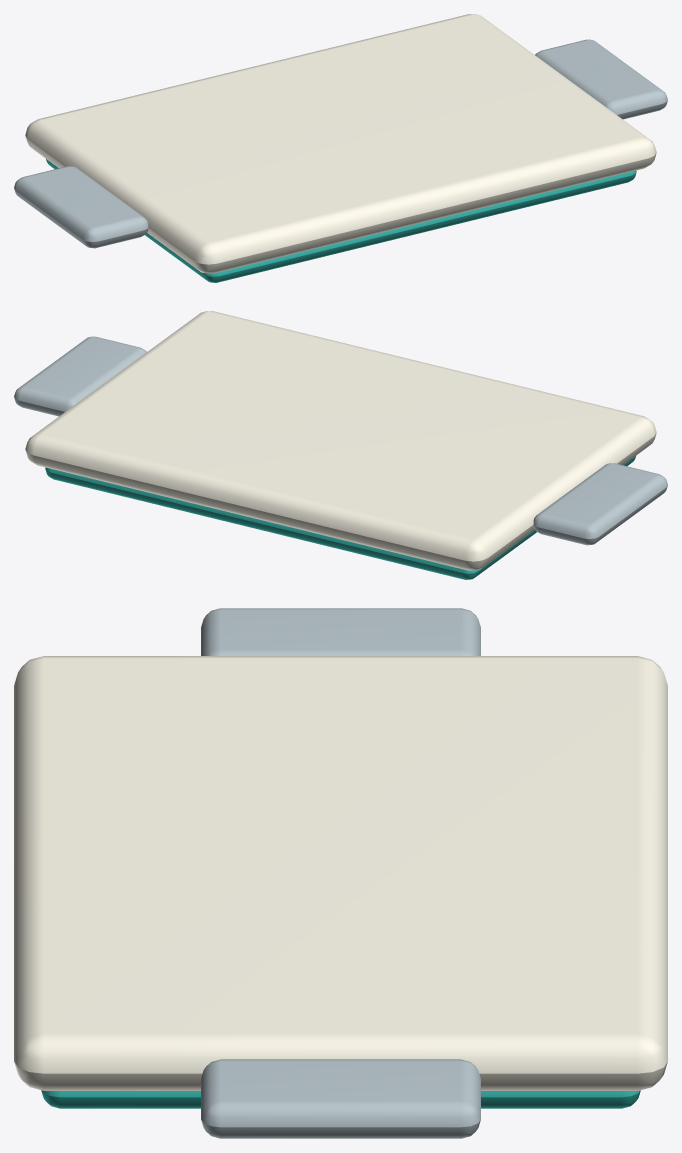
Rendered from tray.glb.
The picture shows the model from 3 angles, top to bottom: view 1: azimuth 30°, elevation 25°; view 2: azimuth 150°, elevation 25°; view 3: azimuth 270°, elevation 25°; orthographic projection. The views are drawn at different scales.
Visible parts, largest first — view 1: Ceramic tray, Tray handles, Tray handles.001, Tray lower edge; view 2: Ceramic tray, Tray handles, Tray handles.001, Tray lower edge; view 3: Ceramic tray, Tray handles.001, Tray handles, Tray lower edge.
Boxes of the visible parts, x1,y1,x2,y2 form: Ceramic tray: (25,14,656,273); Tray handles: (14,166,148,248); Tray handles.001: (535,39,667,119); Tray lower edge: (46,159,636,282); Ceramic tray: (25,311,656,570); Tray handles: (533,463,667,545); Tray handles.001: (14,336,146,416); Tray lower edge: (45,456,635,579); Ceramic tray: (14,656,667,1090); Tray handles.001: (201,1059,480,1138); Tray handles: (201,608,480,655); Tray lower edge: (41,1090,640,1108).
Size of the model in its own units: 1.8 by 0.135 by 0.98.
